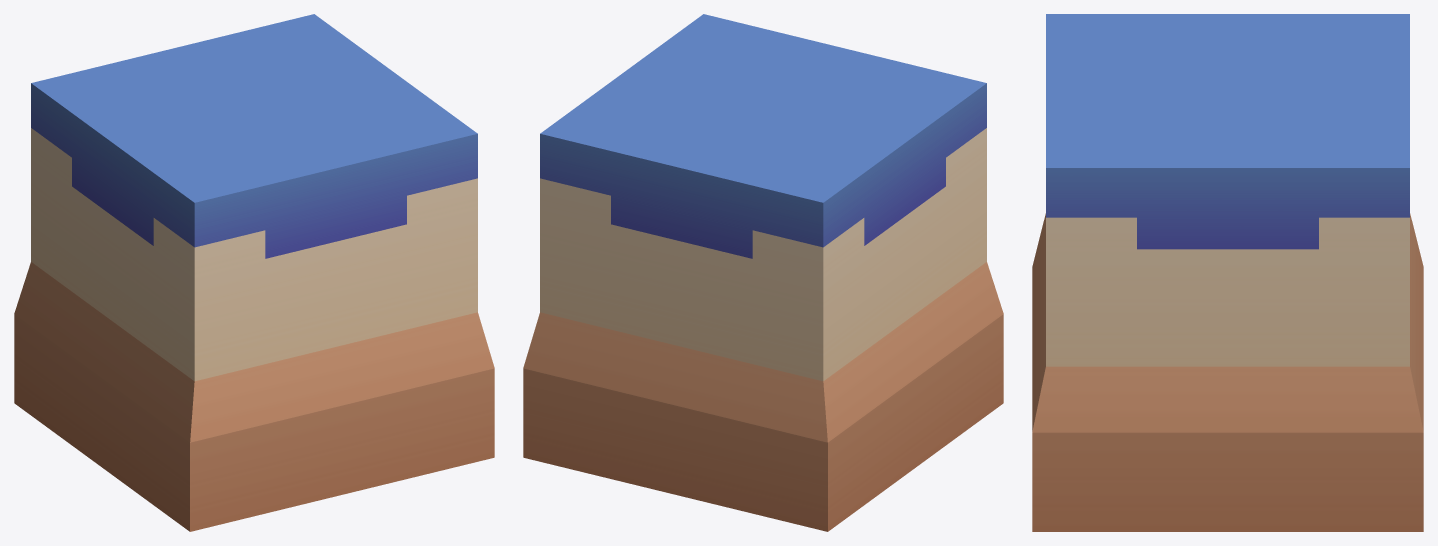
Rendered from tower-square-base-color.obj.
3 renders of one model, left to right at view 1: azimuth 30°, elevation 25°; view 2: azimuth 150°, elevation 25°; view 3: azimuth 270°, elevation 25°, orthographic. The views are drawn at different scales.
Parts seen in each view (by area): view 1: tower-square-base-color; view 2: tower-square-base-color; view 3: tower-square-base-color.
Part boxes in pixels (box(x1,y1,x2,y2)): tower-square-base-color: box(14, 14, 494, 531); tower-square-base-color: box(523, 14, 1003, 531); tower-square-base-color: box(1032, 14, 1423, 531).
Size of the model in its own units: 1 by 1.01 by 1.
Materials: 1 (1 with a texture image).
